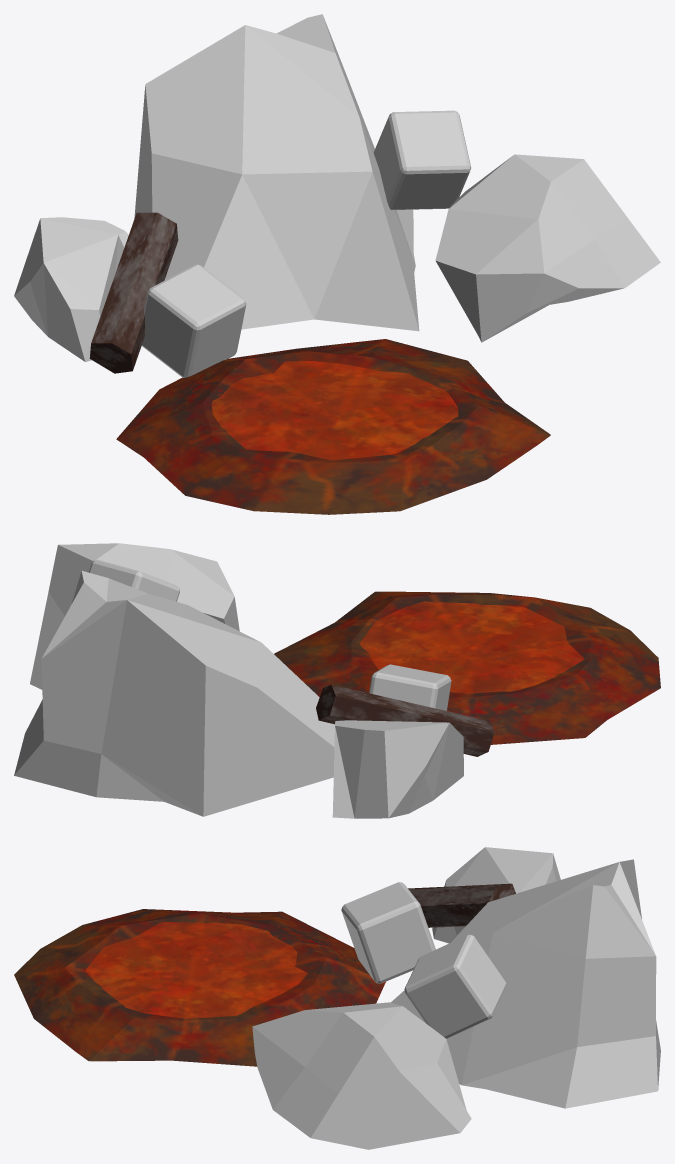
File: Campamento_3.obj
The picture shows the model from 3 angles, top to bottom: view 1: azimuth 30°, elevation 25°; view 2: azimuth 150°, elevation 25°; view 3: azimuth 270°, elevation 25°; orthographic projection. The views are drawn at different scales.
Parts seen in each view (by area): view 1: Campamento.002, Roundcube.004, Roundcube.003; view 2: Campamento.002, Roundcube.004, Roundcube.003; view 3: Campamento.002, Roundcube.003, Roundcube.004.
Boxes of the visible parts, x1,y1,x2,y2 form: Campamento.002: [14, 14, 660, 514]; Roundcube.004: [141, 264, 246, 377]; Roundcube.003: [373, 110, 471, 210]; Campamento.002: [14, 543, 660, 818]; Roundcube.004: [369, 664, 451, 710]; Roundcube.003: [88, 559, 179, 601]; Campamento.002: [14, 847, 660, 1149]; Roundcube.003: [404, 934, 506, 1038]; Roundcube.004: [341, 882, 435, 983].
Size of the model in its own units: 17.55 by 6.28 by 18.74.
4 materials, 2 textured.
